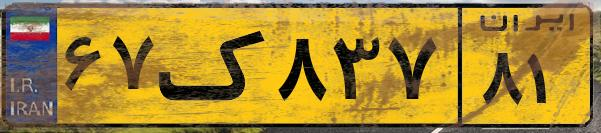1: (525, 38, 570, 115)
3: (330, 28, 385, 110)
6: (57, 26, 110, 100)
7: (385, 28, 445, 110), (110, 28, 158, 98)
8: (270, 28, 330, 110), (475, 38, 525, 113)
ک: (158, 12, 270, 120)
